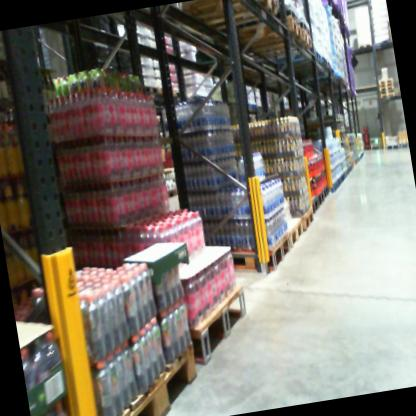pallet: (77, 338, 217, 416), (181, 273, 265, 381), (172, 0, 282, 39), (225, 10, 308, 55), (221, 231, 292, 281), (245, 28, 319, 66), (280, 216, 305, 248), (292, 205, 316, 230), (154, 183, 178, 203), (137, 78, 161, 97), (170, 84, 189, 102), (305, 195, 321, 214), (312, 188, 326, 206), (384, 142, 400, 154), (321, 182, 331, 198), (378, 75, 394, 85), (378, 92, 396, 100), (379, 90, 396, 97), (379, 82, 394, 89), (379, 86, 394, 92), (399, 140, 408, 149), (379, 89, 395, 93)
